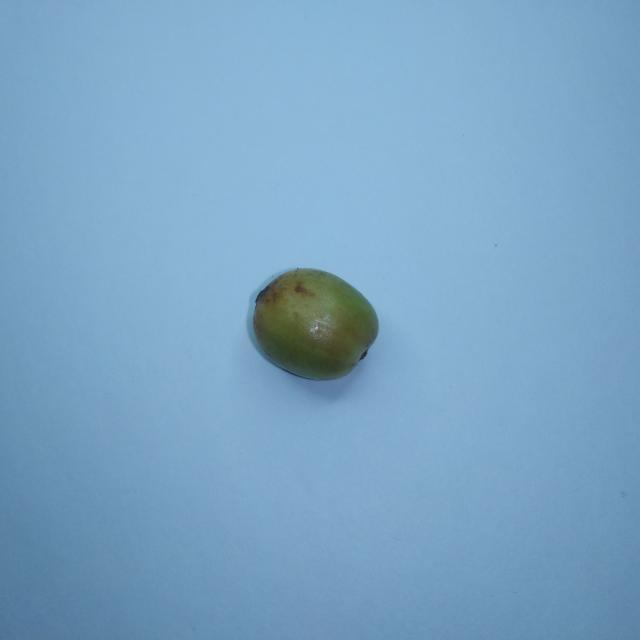Sano: (251, 268, 377, 380)
